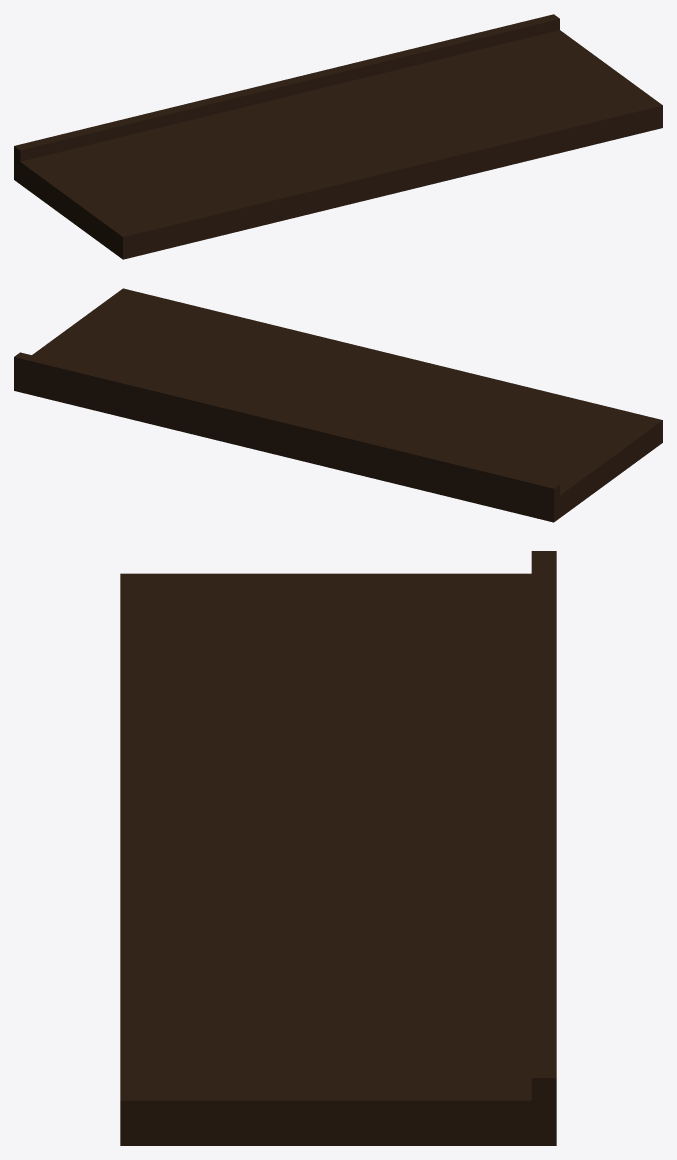
File: shelf-kitchen.glb
3 views of the same model, one above another, from view 1: azimuth 30°, elevation 25°; view 2: azimuth 150°, elevation 25°; view 3: azimuth 270°, elevation 25° (orthographic). The views are drawn at different scales.
Visible parts, largest first — view 1: shelfKitchen; view 2: shelfKitchen; view 3: shelfKitchen.
Part boxes in pixels (bbox=[...]): shelfKitchen: bbox=[14, 14, 662, 259]; shelfKitchen: bbox=[14, 288, 662, 522]; shelfKitchen: bbox=[120, 551, 556, 1145].
Size of the model in its own units: 1 by 0.06 by 0.35.
